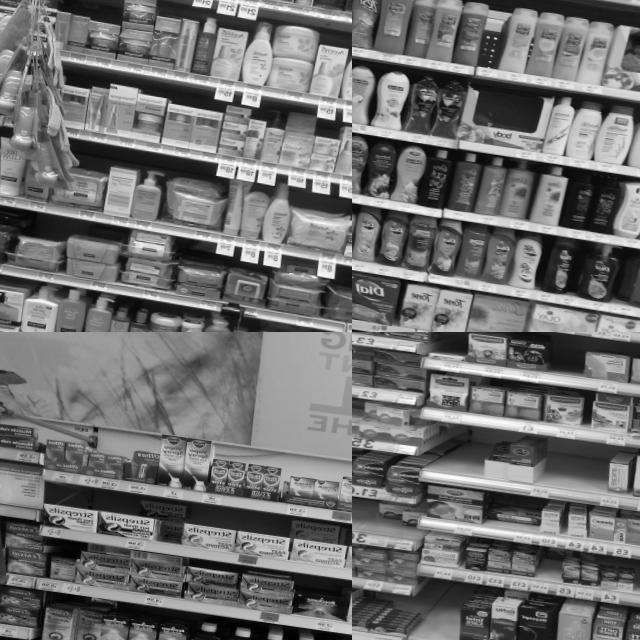100- O.O.S: (540, 442, 610, 506), (425, 586, 463, 640), (550, 339, 586, 388), (459, 432, 487, 488), (352, 494, 376, 545)
